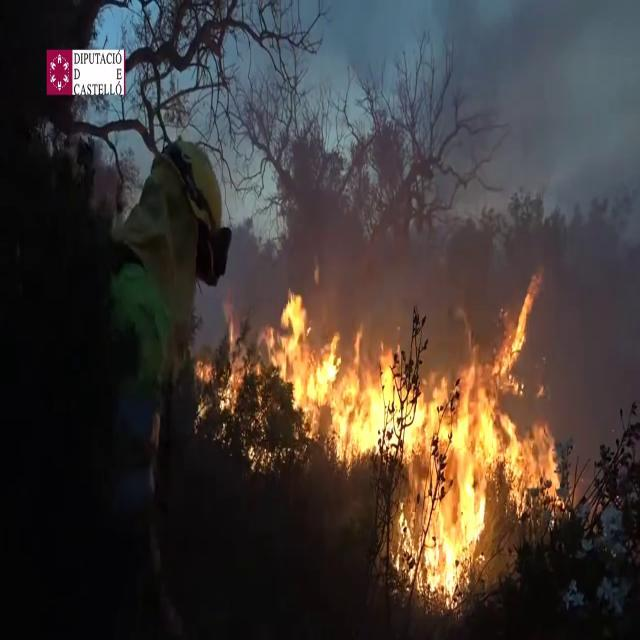Fire: (389, 274, 563, 602), (197, 279, 381, 473)
